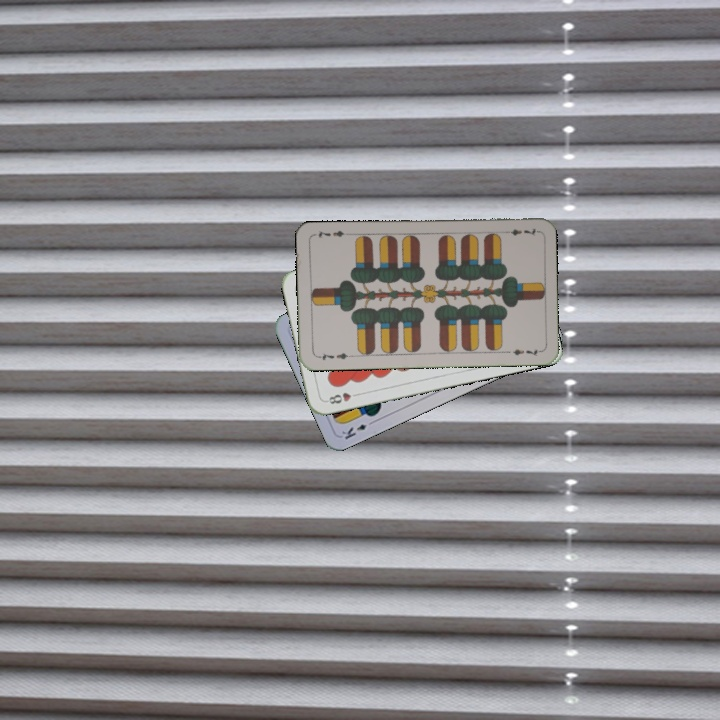E7: (313, 349, 354, 363), (499, 224, 540, 238)
EK: (337, 416, 377, 442)
H8: (322, 388, 362, 407)
